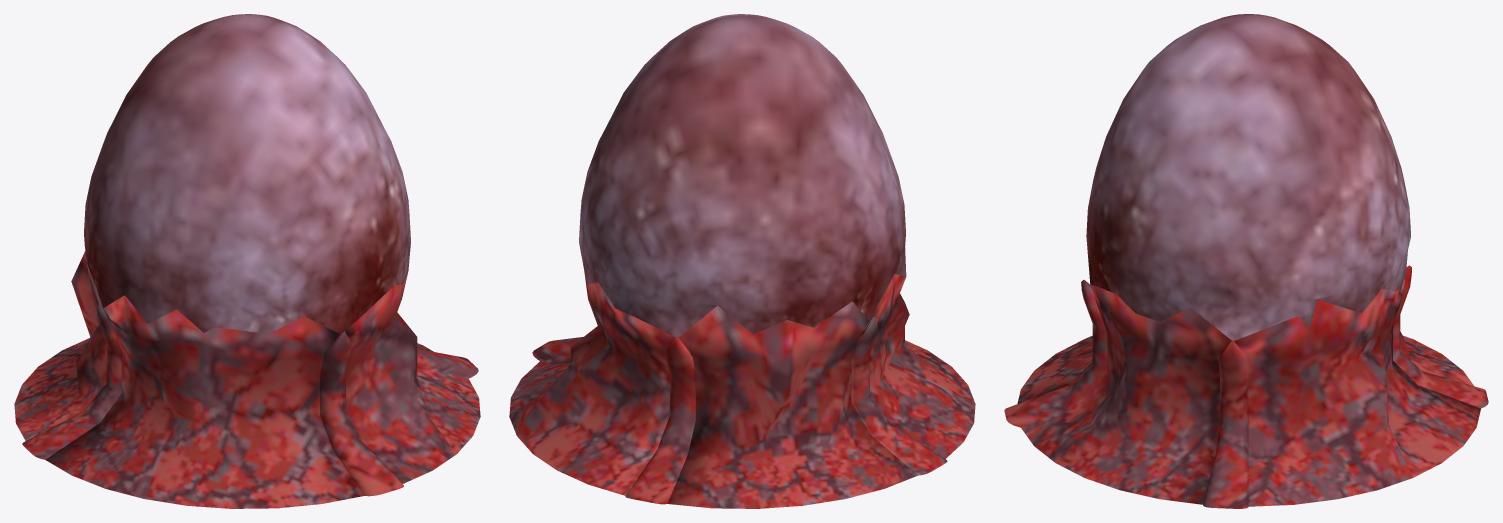
Rendered from Capsula.fbx.
The picture shows the model from 3 angles, left to right: view 1: azimuth 30°, elevation 25°; view 2: azimuth 150°, elevation 25°; view 3: azimuth 270°, elevation 25°; orthographic projection.
Parts seen in each view (by area): view 1: Capsula Crisalida, Base C; view 2: Capsula Crisalida, Base C; view 3: Capsula Crisalida, Base C.
Part boxes in pixels (x1,y1,x2,y2): Capsula Crisalida: (84,14,410,334); Base C: (14,251,480,508); Capsula Crisalida: (579,14,906,337); Base C: (509,272,975,508); Capsula Crisalida: (1086,14,1410,340); Base C: (1004,265,1488,508).
Size of the model in its own units: 162 by 162 by 142.
Materials: 2 (2 with a texture image).
